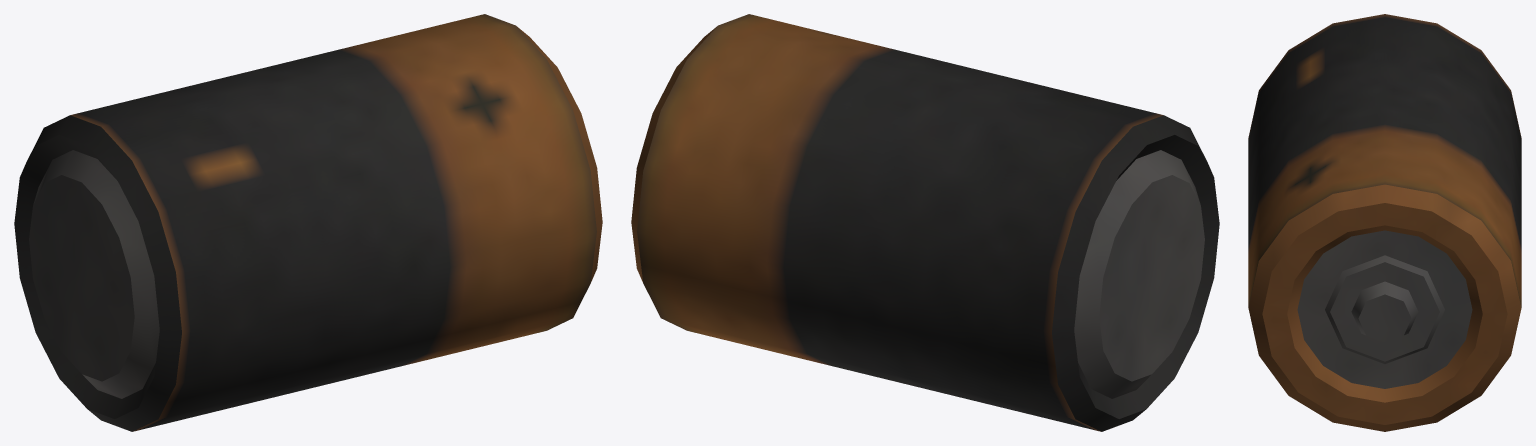
Rendered from battery_mp_2.obj.
3 views of the same model, side by side, from view 1: azimuth 30°, elevation 25°; view 2: azimuth 150°, elevation 25°; view 3: azimuth 270°, elevation 25° (orthographic). The views are drawn at different scales.
Visible parts, largest first — view 1: battery_mp_2; view 2: battery_mp_2; view 3: battery_mp_2.
Boxes of the visible parts, x1,y1,x2,y2 form: battery_mp_2: [14, 14, 602, 431]; battery_mp_2: [631, 14, 1219, 431]; battery_mp_2: [1248, 14, 1521, 431].
Bounding box in the file's own units: 2.83 × 1.73 × 1.73.
Materials: 1 (1 with a texture image).
